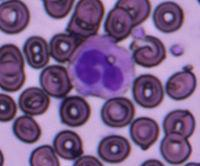N: (66, 34, 135, 99)
